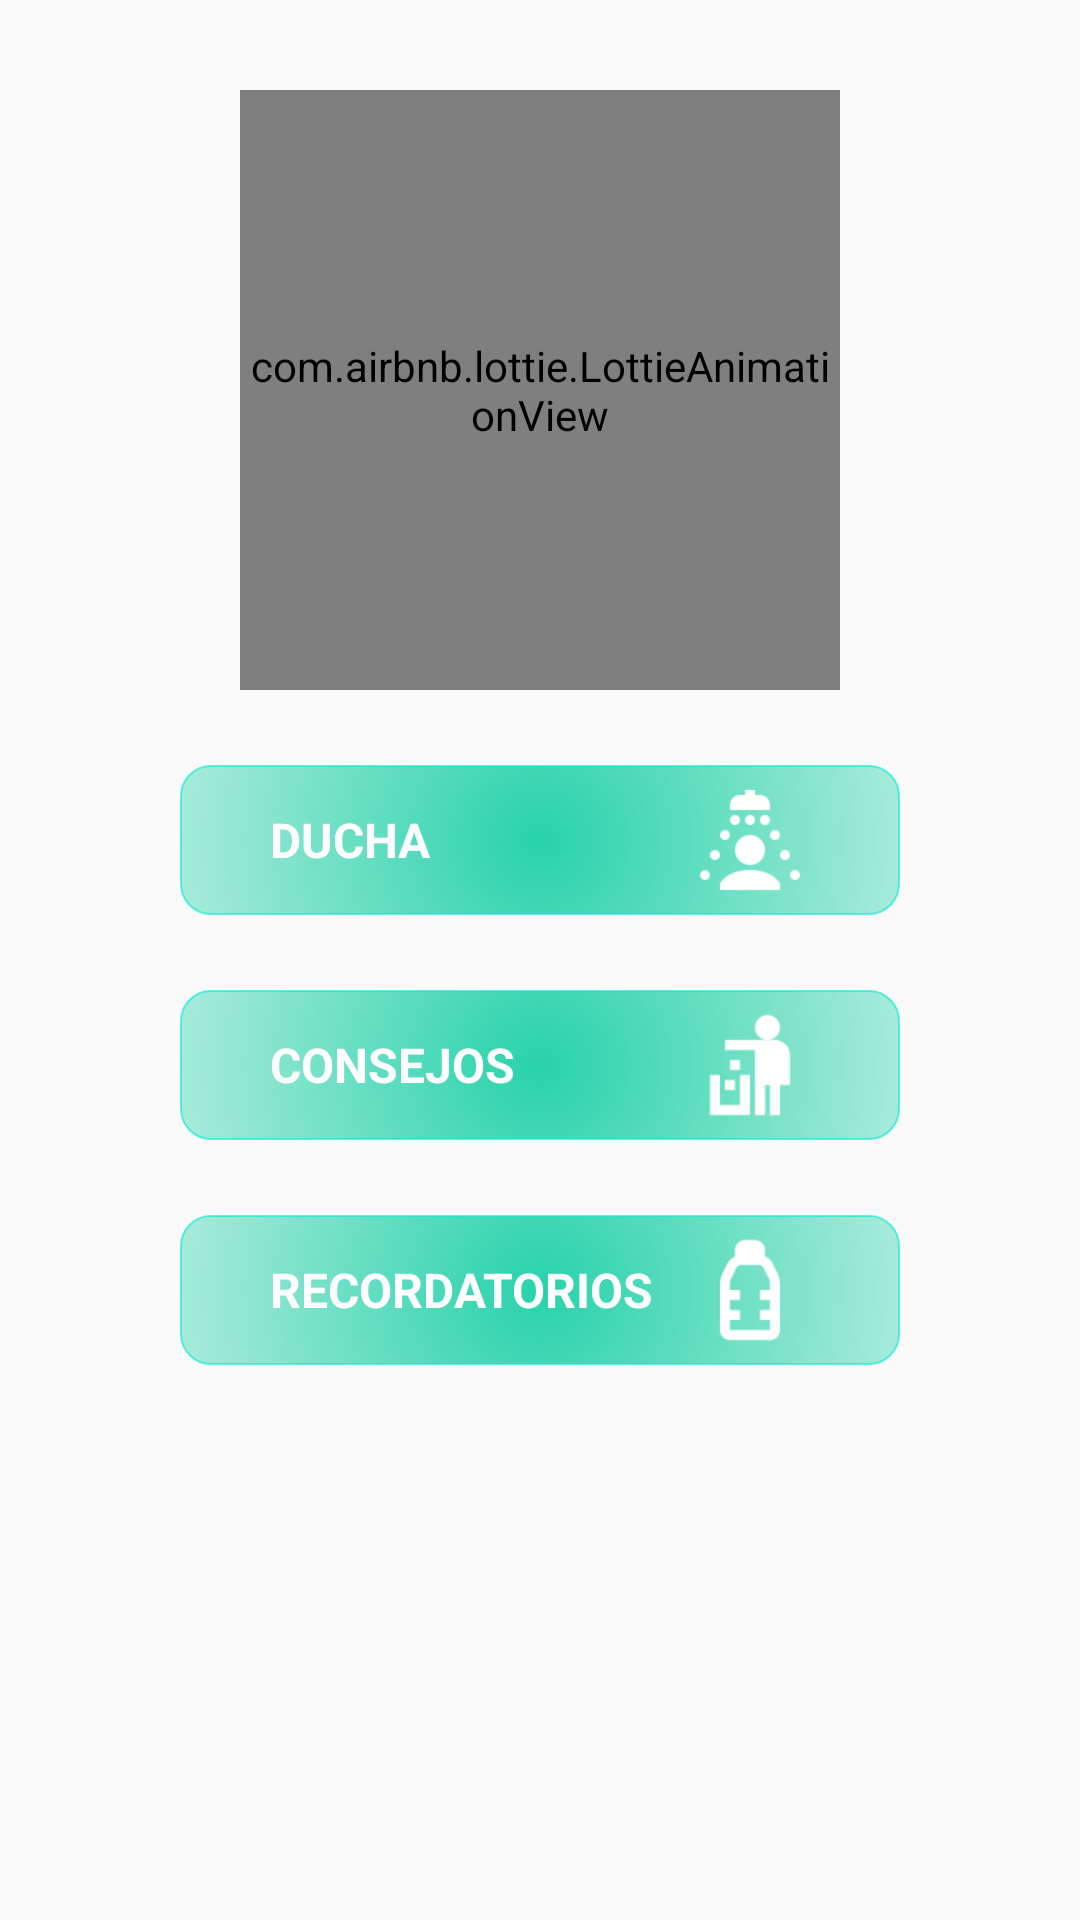

Icons on this 1080*1920 Android screen, each with the point to tap as [x,y]:
ducha: [750,840]
